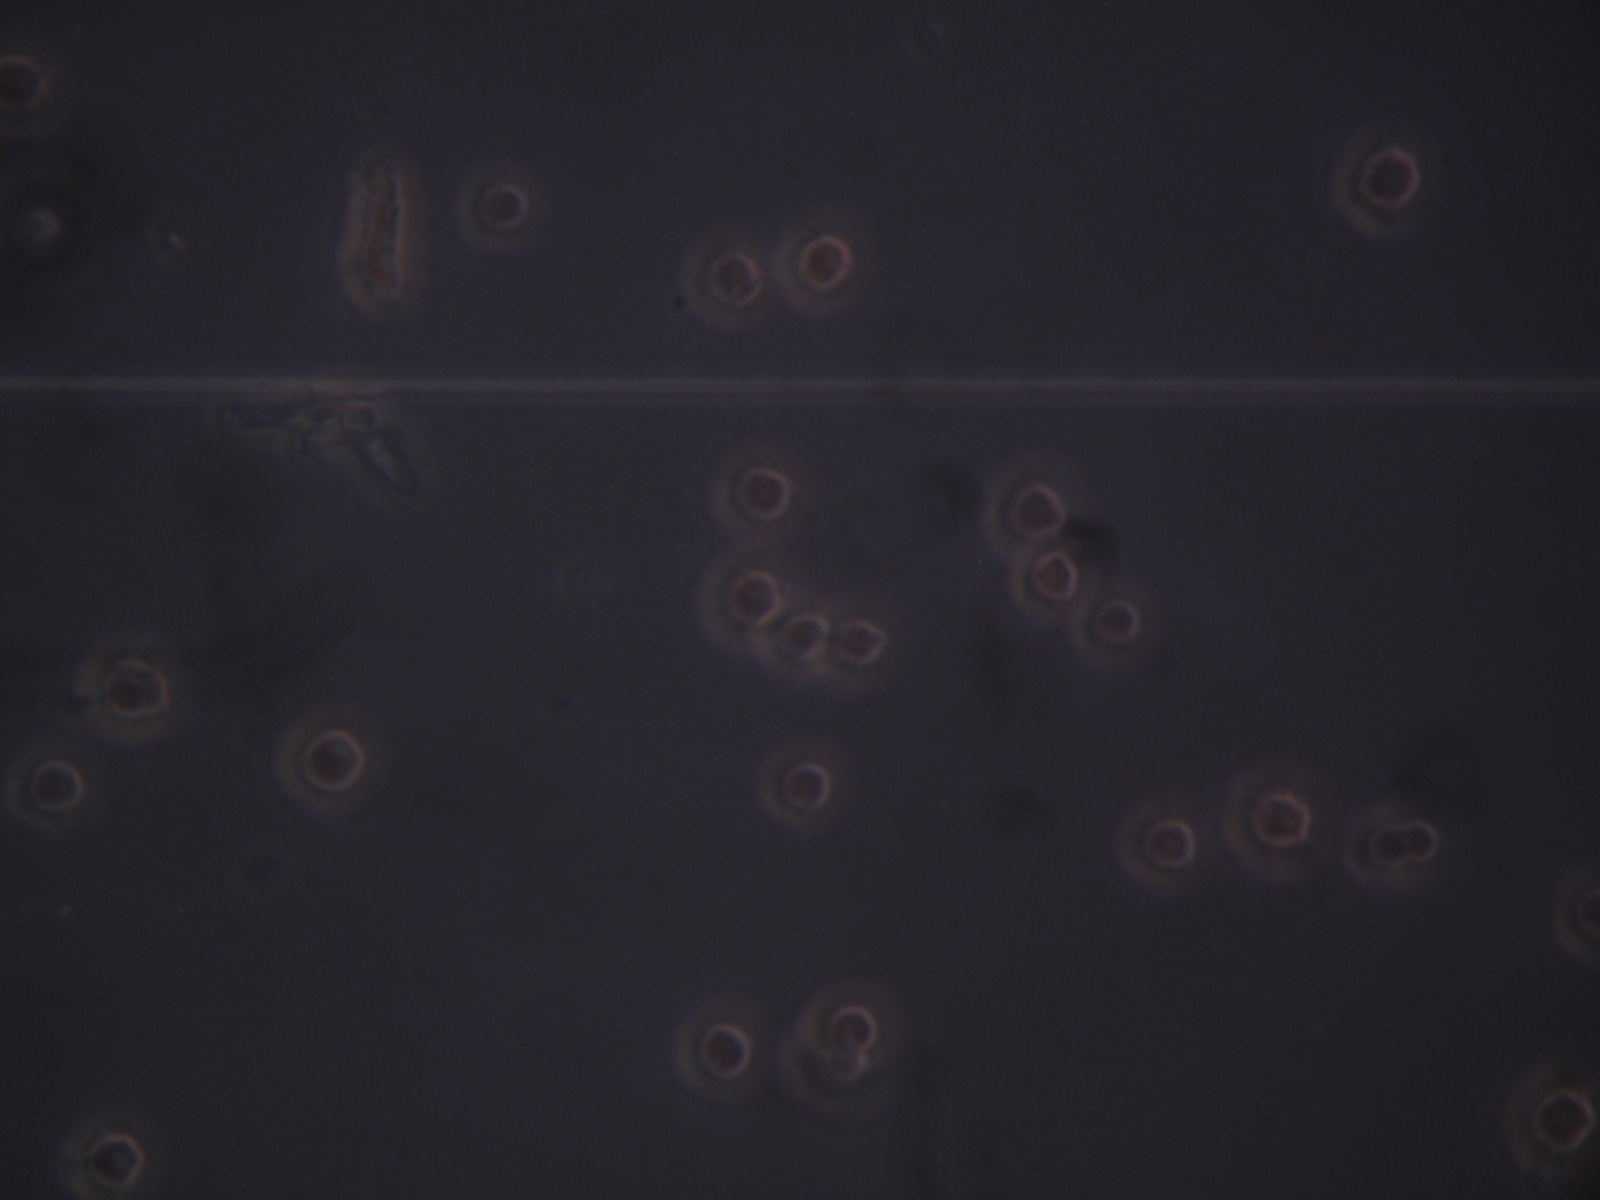hemo: (72, 633, 181, 744), (1503, 1059, 1599, 1180), (1222, 763, 1314, 880), (1330, 134, 1420, 239), (979, 459, 1076, 555), (275, 713, 367, 814), (694, 550, 784, 653), (678, 229, 767, 330), (779, 1029, 876, 1113), (708, 447, 795, 539), (799, 981, 894, 1063), (777, 221, 859, 316), (671, 1005, 753, 1099), (59, 1113, 147, 1200), (1114, 800, 1199, 890), (1, 176, 63, 291), (5, 745, 84, 832), (456, 168, 535, 252), (1070, 582, 1146, 666), (1009, 545, 1089, 624), (757, 745, 831, 829), (1343, 804, 1414, 887), (824, 597, 887, 689), (763, 605, 831, 678), (1552, 866, 1600, 961), (1, 54, 54, 139), (1398, 808, 1444, 884)
